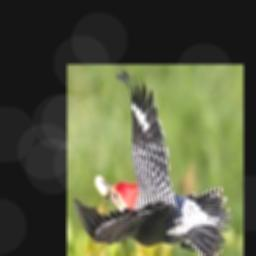Woodpecker: (73, 70, 232, 256)
